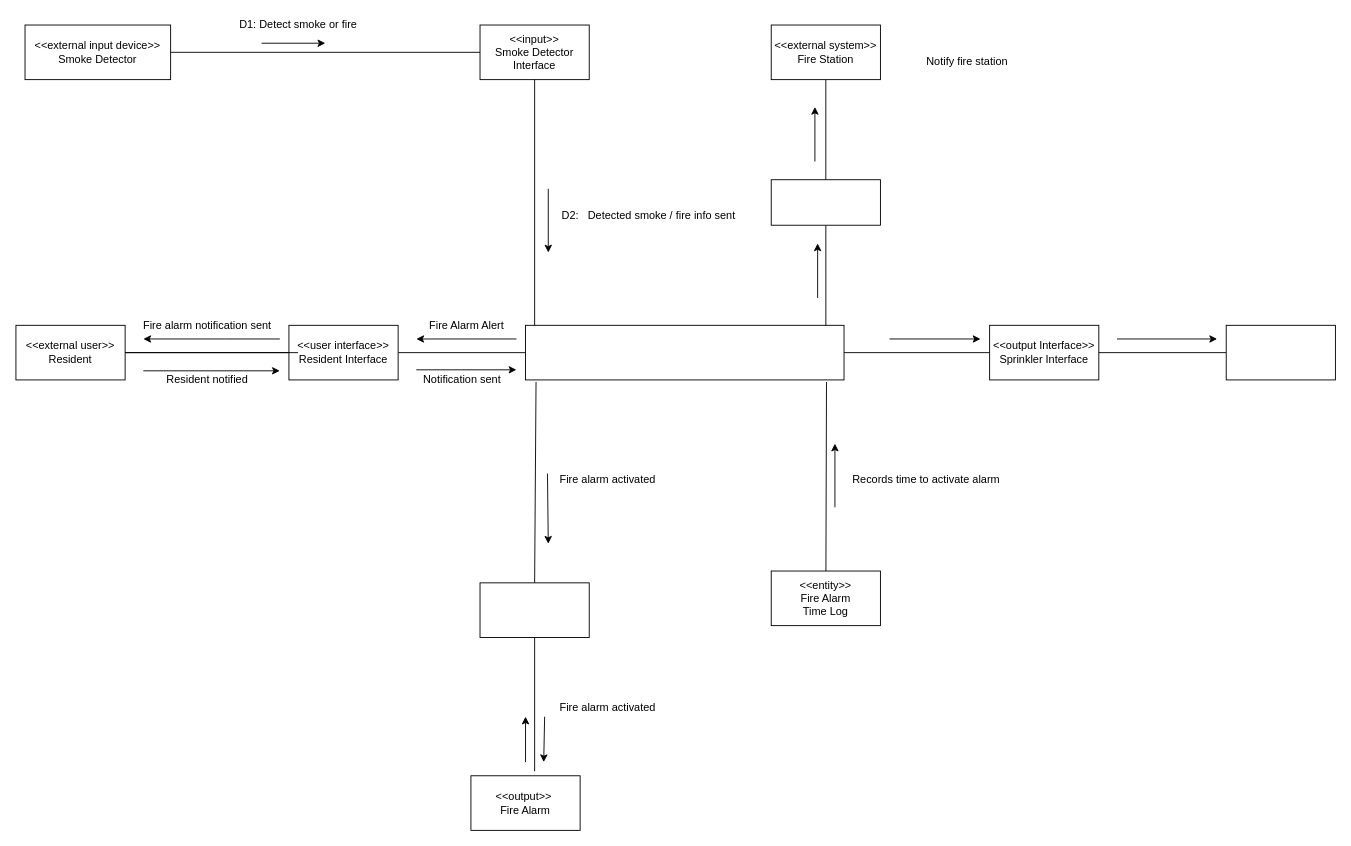
Image size: 1351x846. Some labels were removed from this diagram. Each missing label, with the centre of its shape:
"<<external input device>> Sprinkler" goes at point (1280, 352).
"<<input>> Fire alarm interface" goes at point (534, 609).
"<<proxy>> Fire Station" goes at point (825, 202).
"<<State dependent Control>> Smart Home System" goes at point (684, 352).
